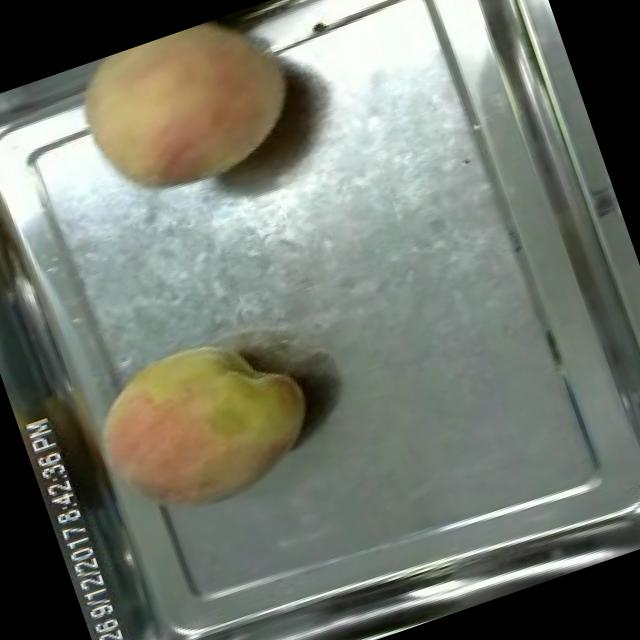Fruit: (71, 302, 337, 540), (53, 0, 319, 224)
